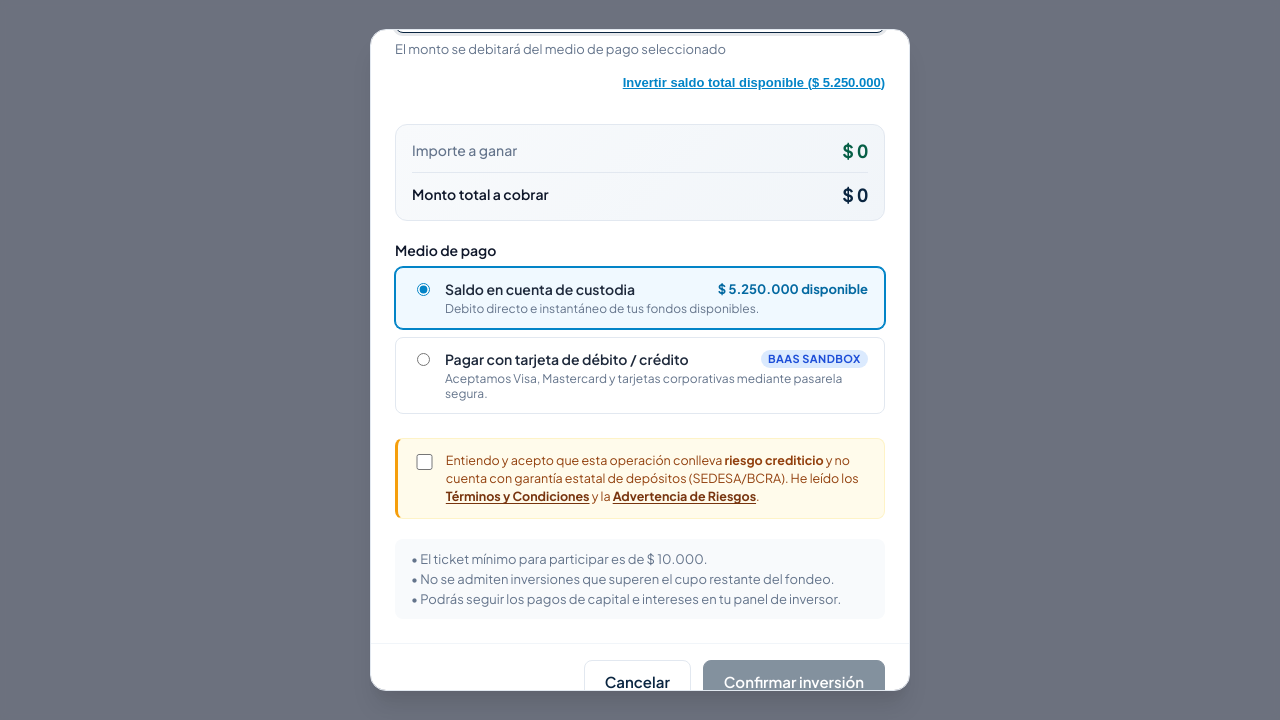
Test case: InvestmentModal Checkout & BaaS Sandbox Flow (Issue #66) › Payment Method Selection › shows custody balance option with available amount and allows selecting card
(page scrolled)
Expected: the radio button with test id "payment-method-custody" is checked, [417, 283, 430, 296]
# Switch to card payment
Click the radio button with test id "payment-method-card": (424, 360) [417, 353, 430, 366]
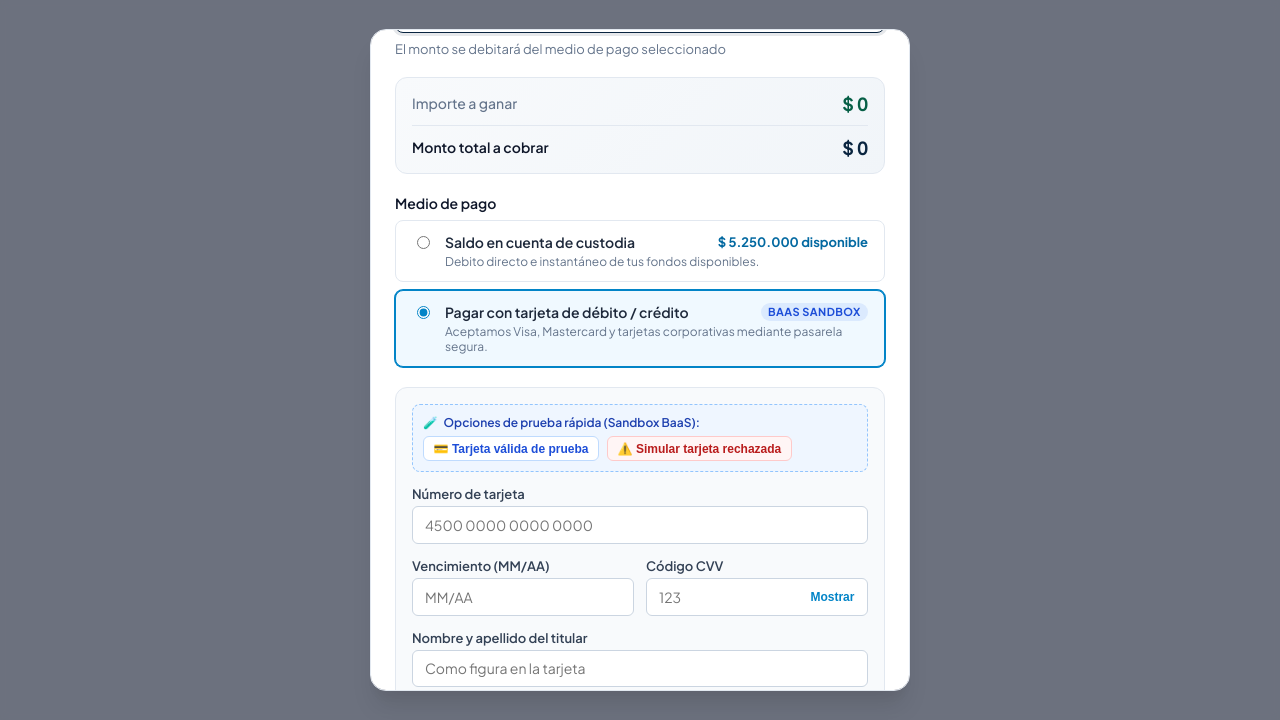
Expected: the radio button with test id "payment-method-card" is checked, [417, 306, 430, 319]
Expected: the radio button with test id "payment-method-custody" is not checked, [417, 236, 430, 249]
Expected: the element with test id "card-form-container" is shown, [395, 387, 885, 691]
